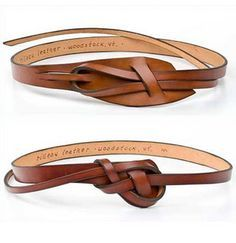cuero: (3, 28, 233, 209)
